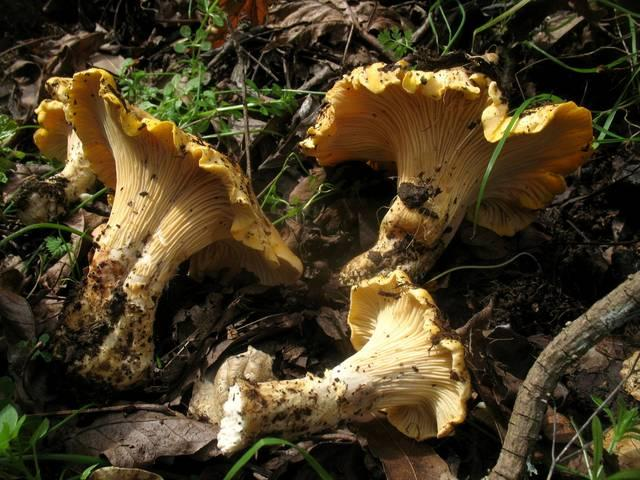edible_mushroom: (34, 66, 304, 394), (297, 59, 594, 287), (188, 268, 474, 456)
